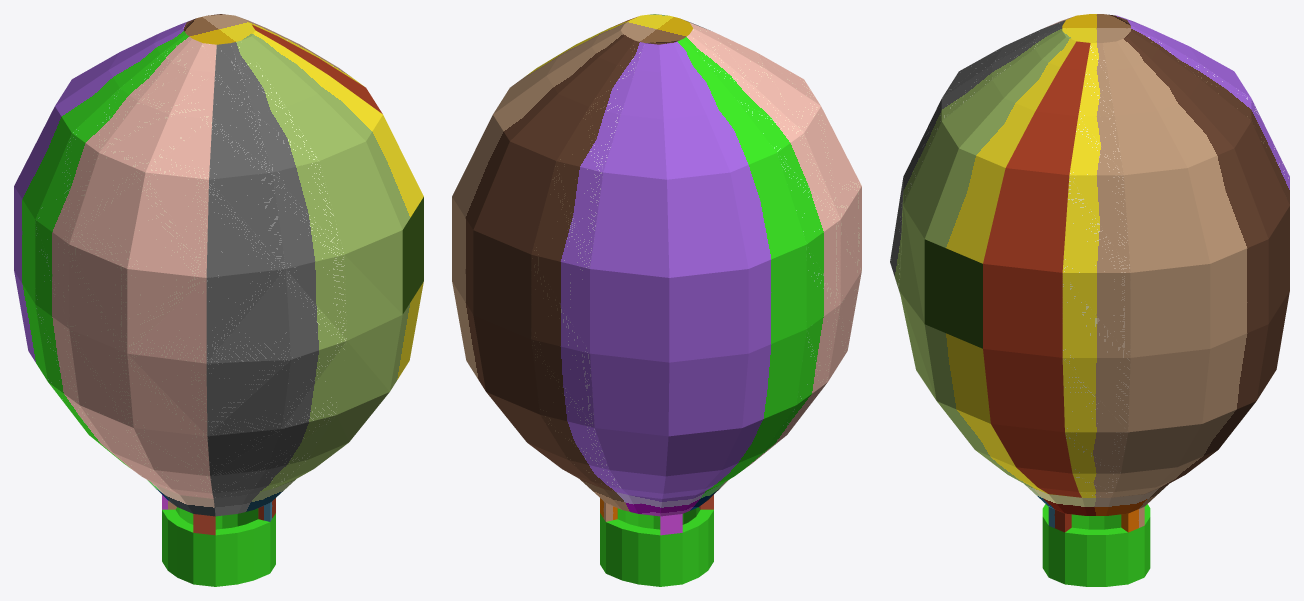
Rendered from balao2.dae.
3 renders of one model, left to right at view 1: azimuth 30°, elevation 25°; view 2: azimuth 150°, elevation 25°; view 3: azimuth 270°, elevation 25°, orthographic.
Parts seen in each view (by area): view 1: Cube; view 2: Cube; view 3: Cube.
Boxes of the visible parts, bbox=[...] form: Cube: bbox=[14, 14, 423, 586]; Cube: bbox=[452, 14, 861, 586]; Cube: bbox=[890, 14, 1289, 586].
Bounding box in the file's own units: 7.18 × 7.43 × 10.98.
1 material, 1 textured.
